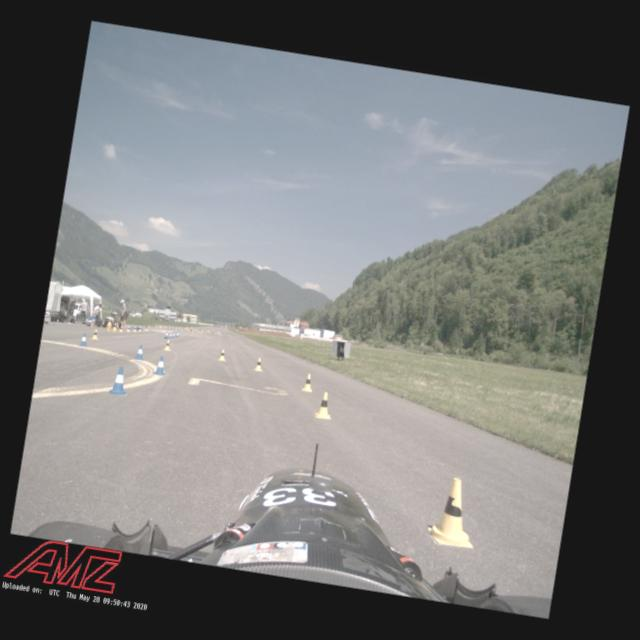blue_cone: (108, 365, 130, 396), (154, 355, 168, 376), (134, 344, 146, 360), (79, 332, 89, 347), (164, 331, 168, 338), (169, 332, 172, 338), (172, 332, 175, 338), (176, 332, 178, 338), (178, 332, 180, 337)
yellow_cone: (426, 475, 484, 550), (313, 390, 335, 420), (301, 373, 315, 393), (253, 357, 264, 372), (218, 348, 228, 361), (90, 328, 100, 341), (164, 339, 172, 352), (107, 318, 112, 326), (113, 323, 117, 330), (120, 326, 124, 332), (127, 326, 131, 332), (138, 326, 142, 332), (134, 326, 136, 332)
